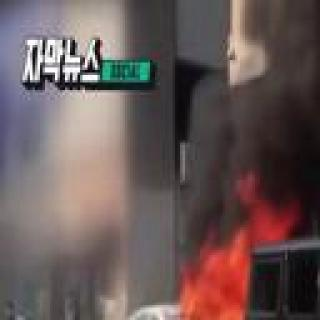fire: (196, 233, 250, 320)
